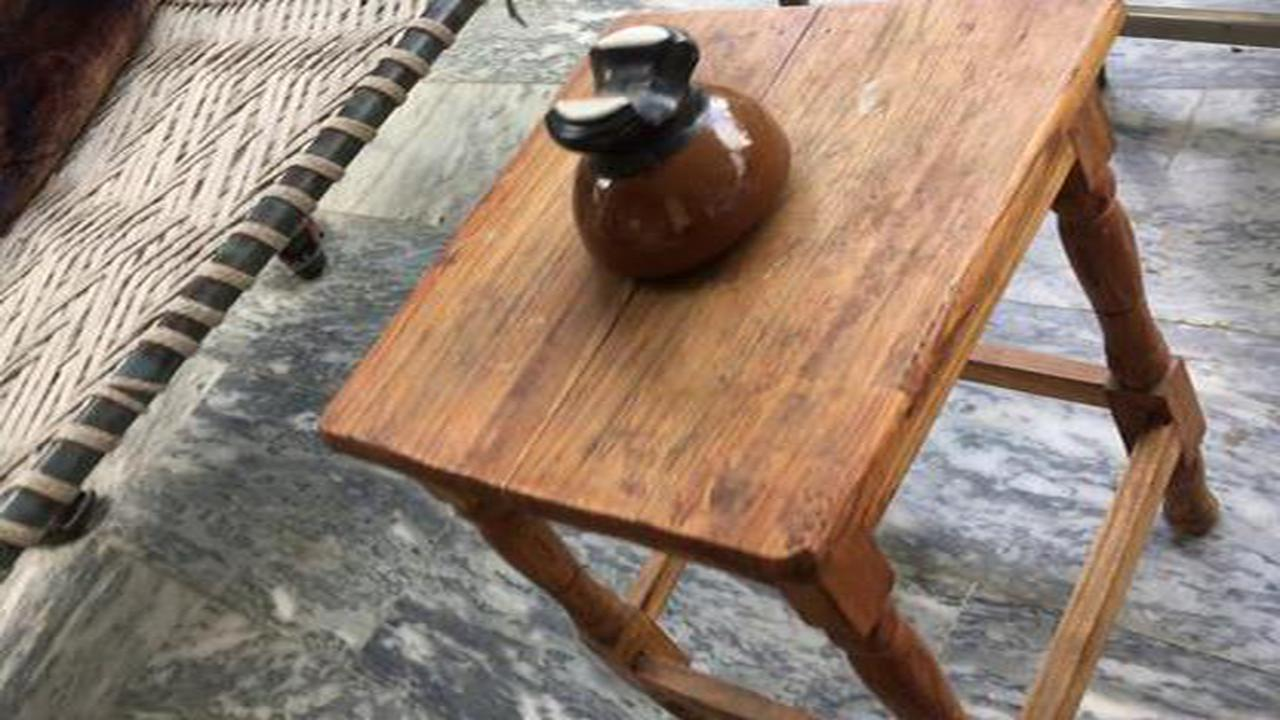insulator_pin: (530, 14, 810, 302)
